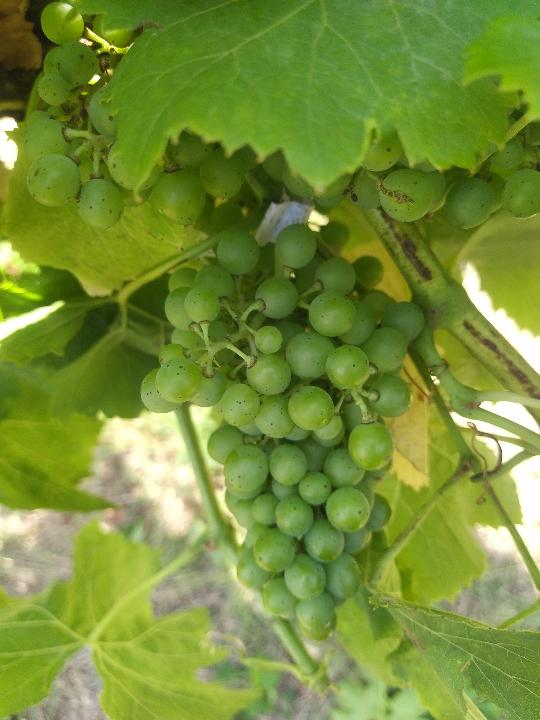grape: (136, 218, 423, 647)
